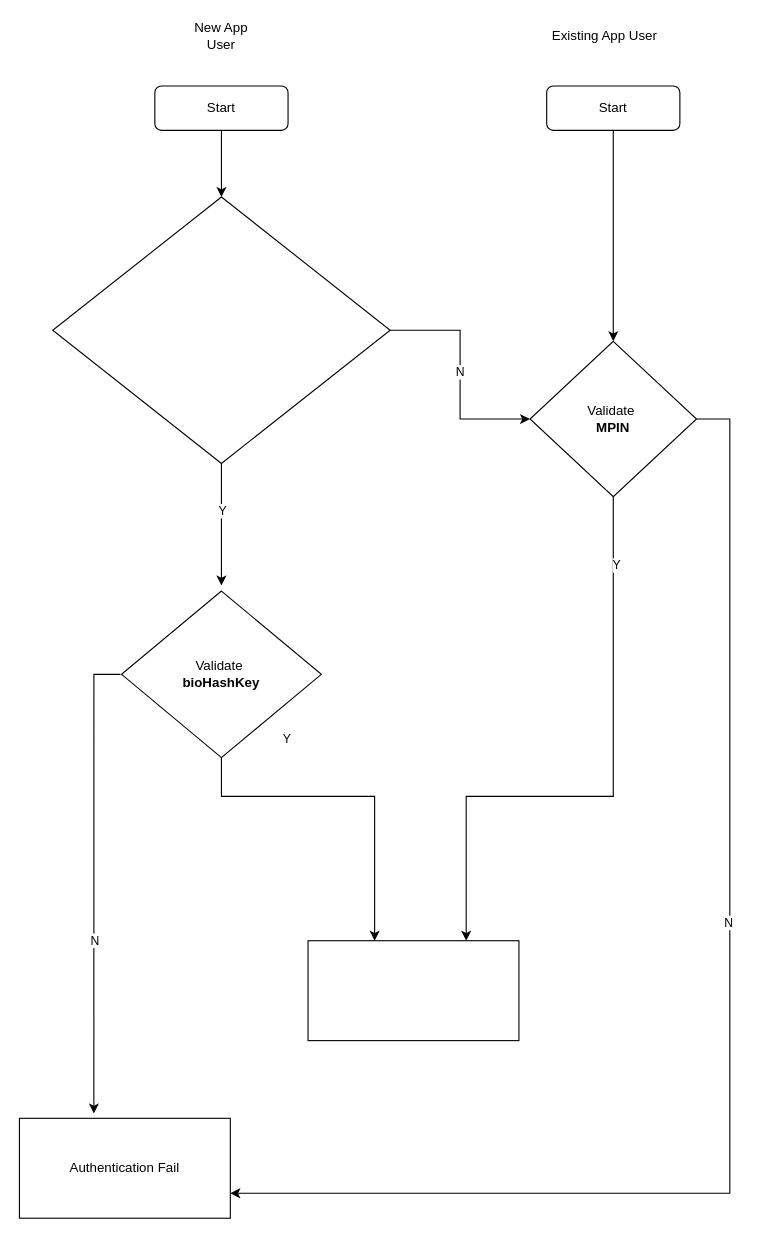
Image size: 758x1238. Some labels were removed from this diagram. Here are the shapes that lost their labels. From the top down, the centre of each, then its label:
At point 221,329: "bioEnabled available in payload AND bioEnabled == True".
At point 413,990: "Authentication successful".
